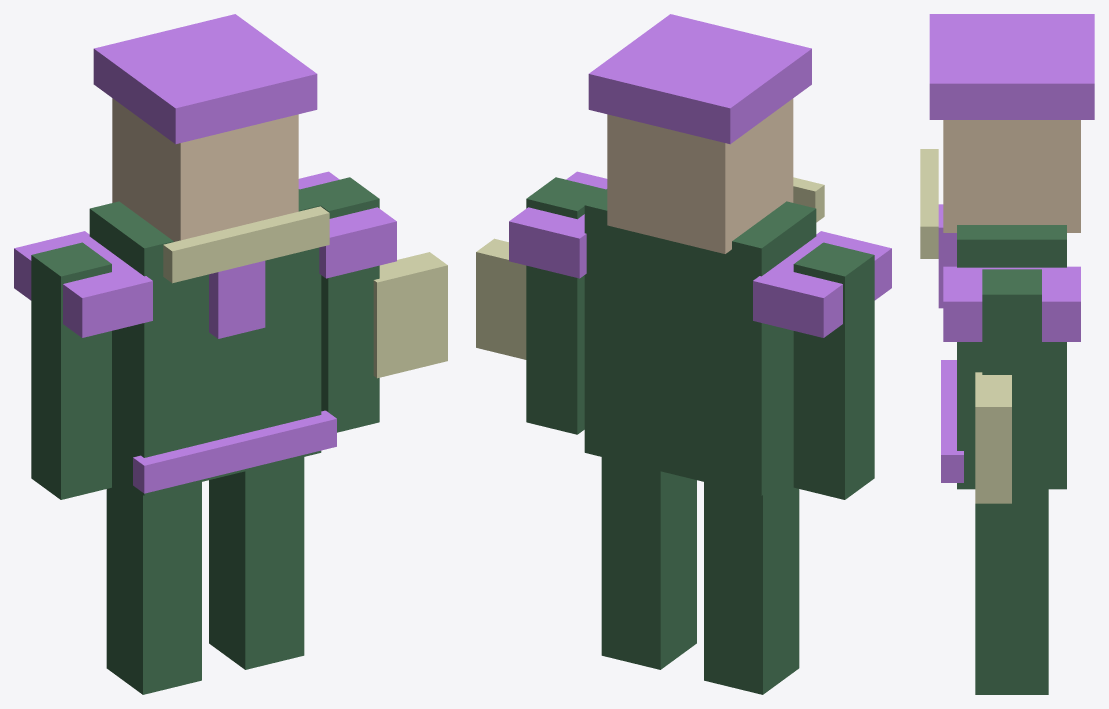
File: 06_vexa_tideforged_archivist_near_hazard.glb
3 views of the same model, side by side, from view 1: azimuth 30°, elevation 25°; view 2: azimuth 150°, elevation 25°; view 3: azimuth 270°, elevation 25° (orthographic).
Parts seen in each view (by area): view 1: Vexa Tideforged, Archivist near Hazard; view 2: Vexa Tideforged, Archivist near Hazard; view 3: Vexa Tideforged, Archivist near Hazard.
Boxes of the visible parts, x1,y1,x2,y2 form: Vexa Tideforged, Archivist near Hazard: [14, 14, 447, 694]; Vexa Tideforged, Archivist near Hazard: [476, 14, 891, 694]; Vexa Tideforged, Archivist near Hazard: [920, 14, 1094, 694].
Size of the model in its own units: 0.9354 by 1.4 by 0.3645.
